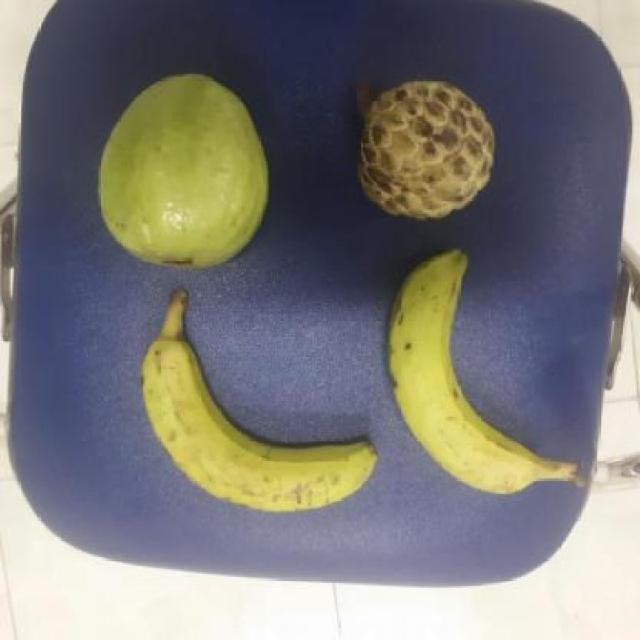banana: (136, 327, 389, 519), (385, 243, 553, 500)
guava: (96, 74, 279, 277)
sugar apple: (353, 79, 502, 226)
